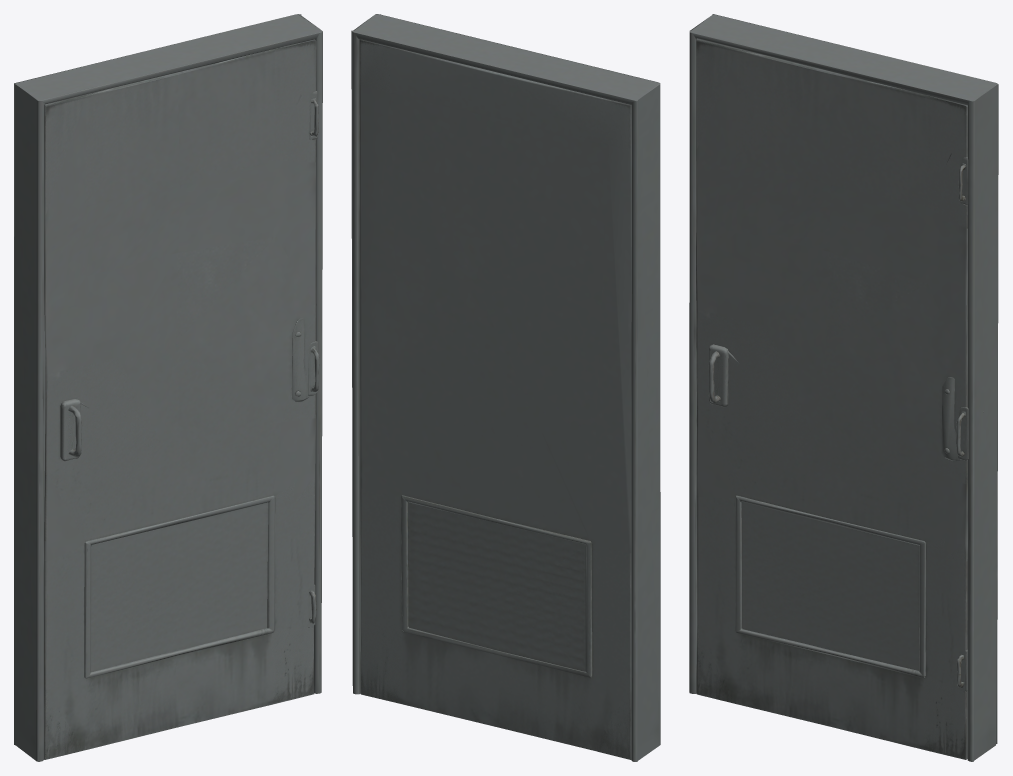
The model's file is Meshy_AI_janitor_s_closet_door_0903105643_texture.glb.
3 views of the same model, side by side, from view 1: azimuth 30°, elevation 25°; view 2: azimuth 150°, elevation 25°; view 3: azimuth 330°, elevation 25° (orthographic).
Visible parts, largest first — view 1: mesh_node; view 2: mesh_node; view 3: mesh_node.
Boxes of the visible parts, x1=… form: mesh_node: x1=14, y1=14, x2=322, y2=761; mesh_node: x1=351, y1=14, x2=660, y2=761; mesh_node: x1=689, y1=14, x2=998, y2=761.
Bounding box in the file's own units: 0.4541 × 1 × 0.0977.
1 material, 1 textured.
